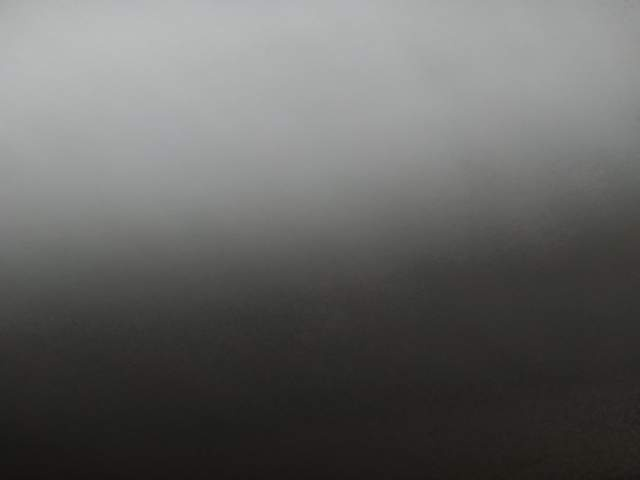pothole: (110, 403, 331, 480), (288, 149, 352, 202), (304, 149, 367, 201)
